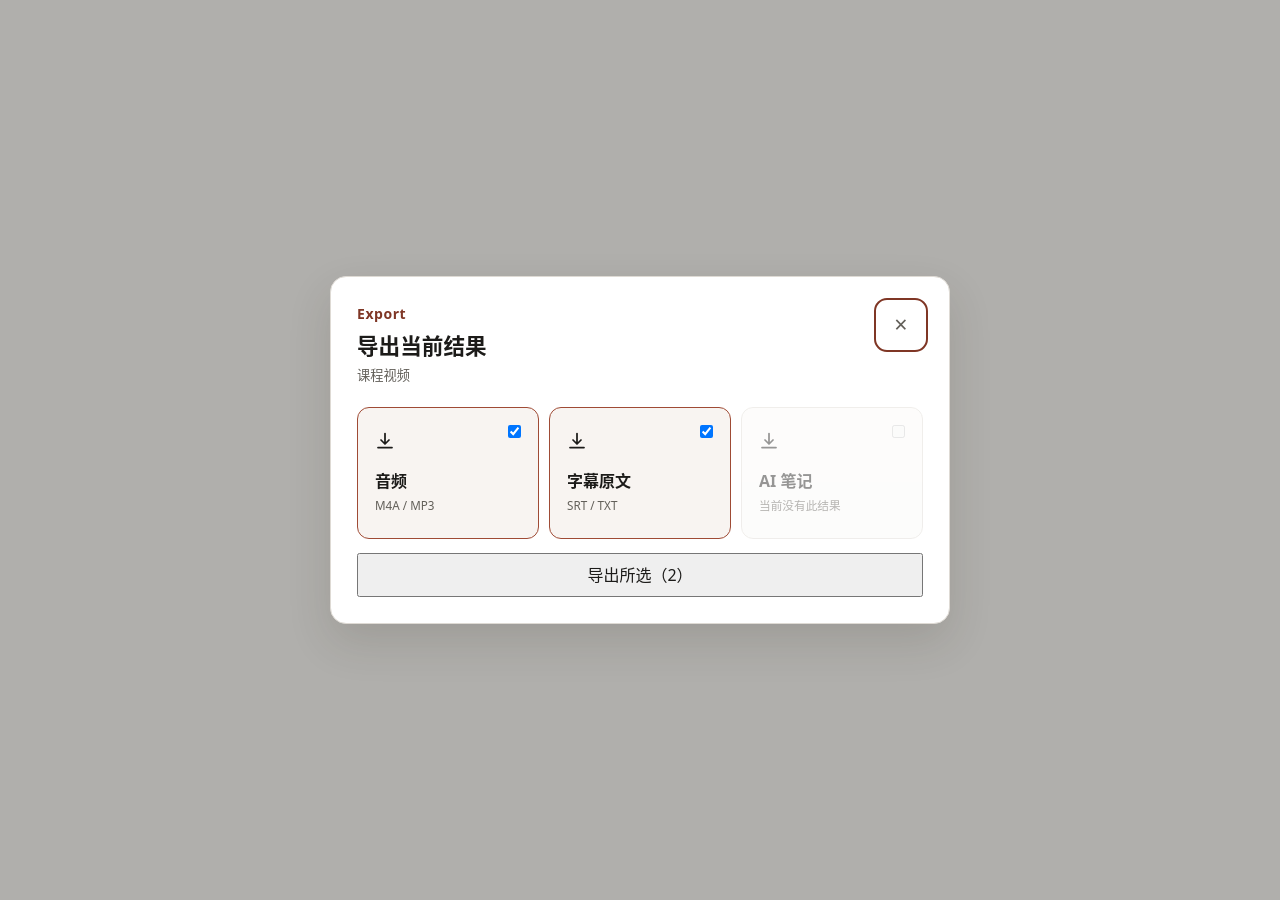
it: OutputExportDialog › preselects available defaults and exports every selected result
Expected: the checkbox labelled "音频" is checked, [508, 425, 521, 438]
Expected: the checkbox labelled "字幕原文" is checked, [700, 425, 713, 438]
Click the button "导出所选（2）" at (640, 575), box [357, 553, 923, 597]
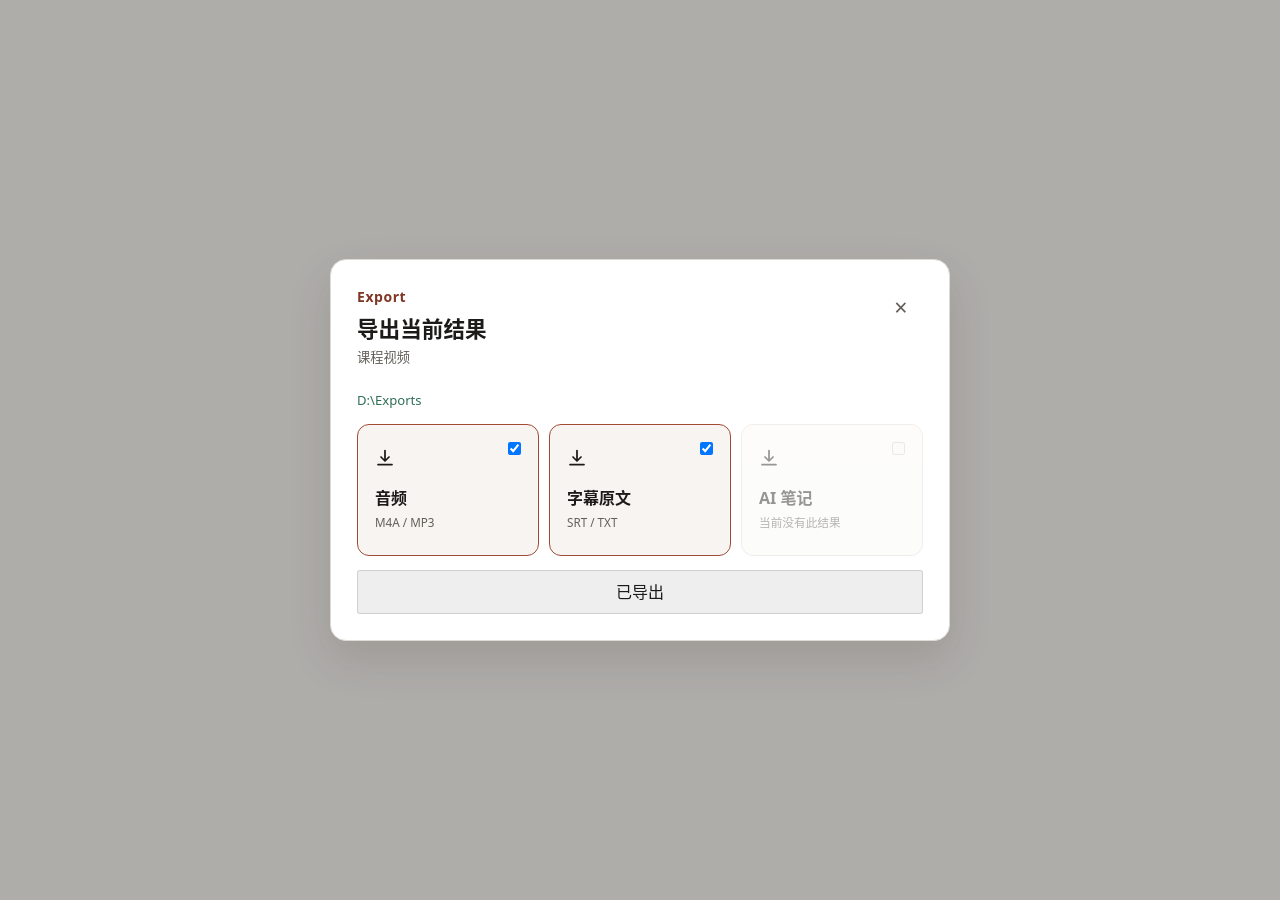
Expected: the text "D:\\Exports" is shown, [357, 391, 422, 409]
